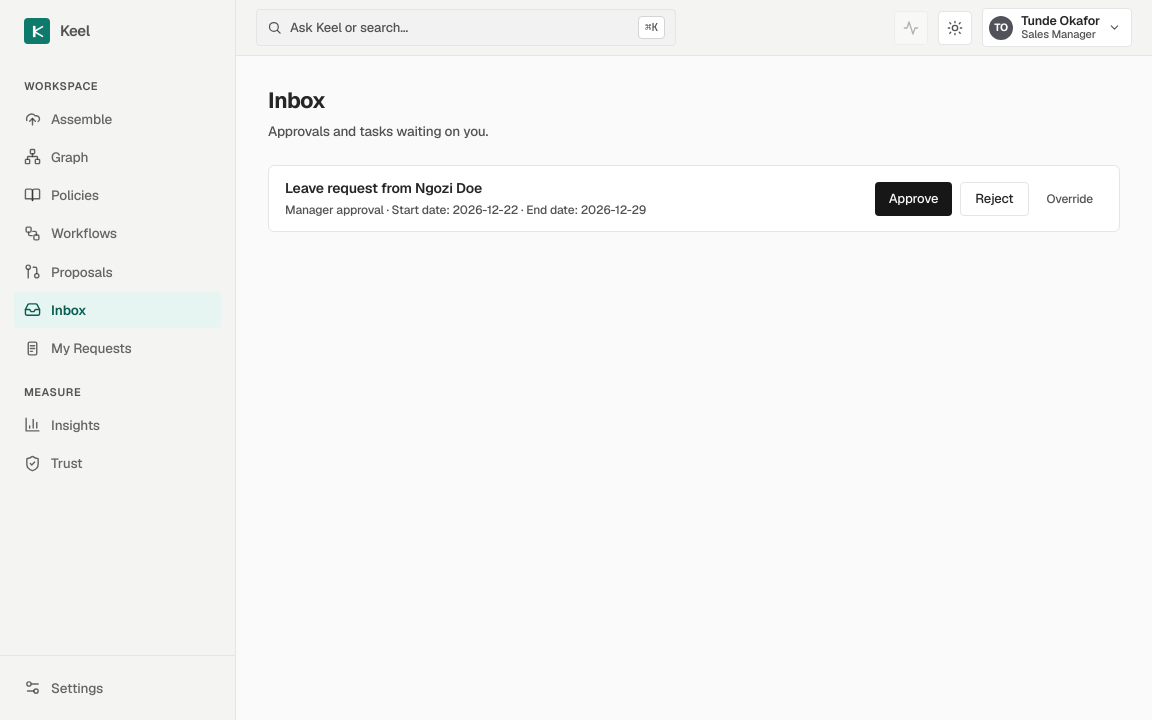
Test: /inbox › overrides a step run only once a reason is given
Step 1. Click the button "Override" → x=1070, y=199, box [1036,184,1103,214]
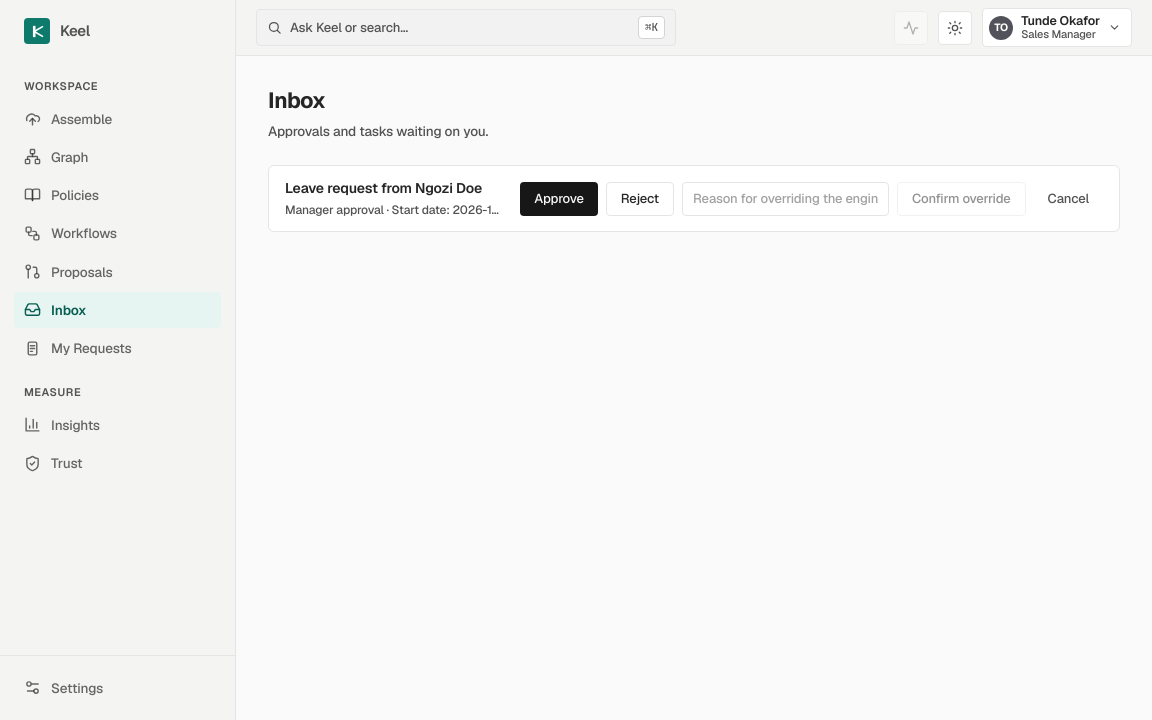
expect the button "Confirm override" is disabled: met, box [897,182,1026,216]
Step 2. Type "Manager is out sick" into the field labelled "Reason for overriding the engine's decision" → x=786, y=199, box [682,182,889,216]
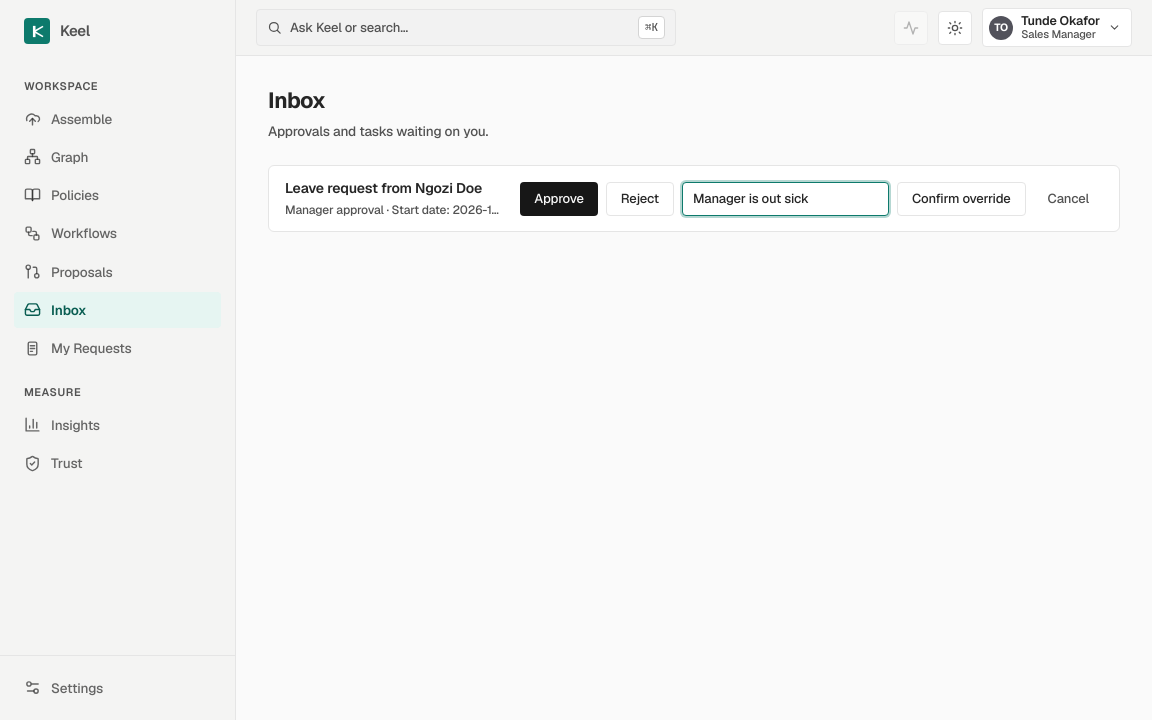
expect the button "Confirm override" is enabled: met, box [897,182,1026,216]
